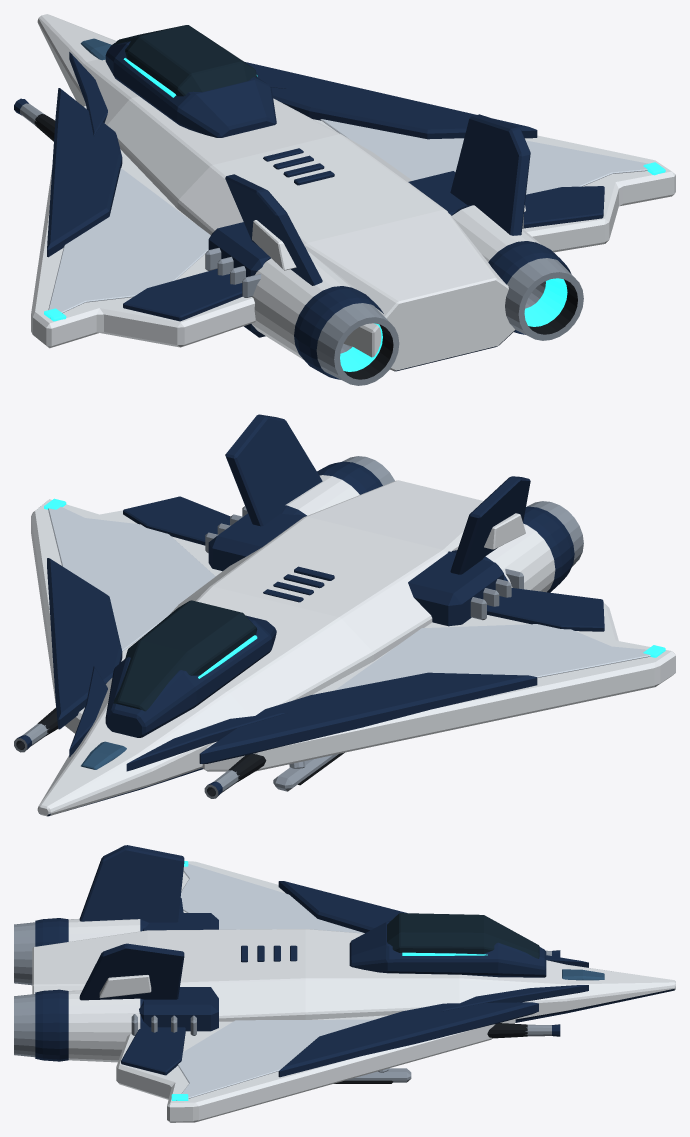
The model's file is helion_fighter.glb.
3 renders of one model, top to bottom at view 1: azimuth 30°, elevation 25°; view 2: azimuth 150°, elevation 25°; view 3: azimuth 270°, elevation 25°, orthographic. The views are drawn at different scales.
Visible parts, largest first — view 1: Fixed_Hull, Engine_L_Mesh, Engine_R_Mesh, Cannon_L_Mesh; view 2: Fixed_Hull, Engine_L_Mesh, Engine_R_Mesh, Cannon_L_Mesh, Skid_L_Mesh, Cannon_R_Mesh; view 3: Fixed_Hull, Engine_R_Mesh, Engine_L_Mesh, Cannon_R_Mesh, Skid_R_Mesh.
Boxes of the visible parts, bbox=[...] form: Fixed_Hull: bbox=[31, 14, 675, 371]; Engine_L_Mesh: bbox=[205, 222, 399, 385]; Engine_R_Mesh: bbox=[408, 171, 583, 340]; Cannon_L_Mesh: bbox=[14, 98, 55, 141]; Fixed_Hull: bbox=[31, 414, 675, 816]; Engine_L_Mesh: bbox=[408, 501, 583, 626]; Engine_R_Mesh: bbox=[205, 456, 394, 571]; Cannon_L_Mesh: bbox=[204, 754, 266, 798]; Skid_L_Mesh: bbox=[273, 752, 344, 791]; Cannon_R_Mesh: bbox=[14, 707, 58, 752]; Fixed_Hull: bbox=[32, 845, 675, 1122]; Engine_R_Mesh: bbox=[14, 987, 218, 1062]; Engine_L_Mesh: bbox=[14, 913, 218, 985]; Cannon_R_Mesh: bbox=[487, 1023, 560, 1038]; Skid_R_Mesh: bbox=[334, 1068, 411, 1083].
Bounding box in the file's own units: 14 × 4.2 × 16.
